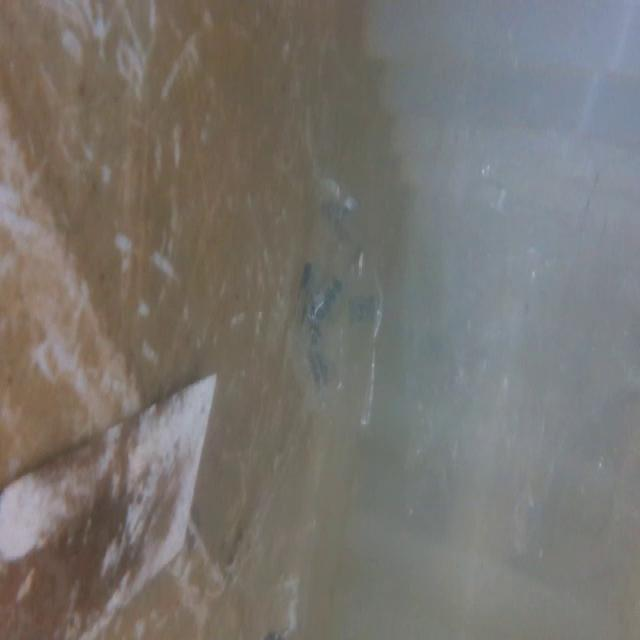metal: (0, 366, 236, 640)
plastic bags: (413, 79, 640, 552), (286, 166, 389, 435)
